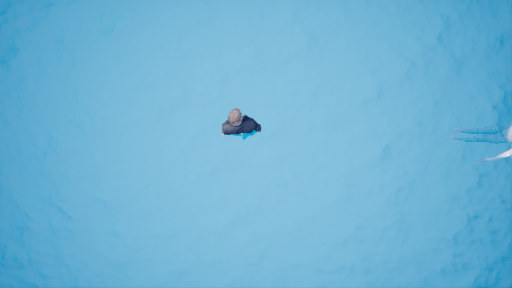person: (216, 100, 270, 148), (452, 117, 512, 156)
